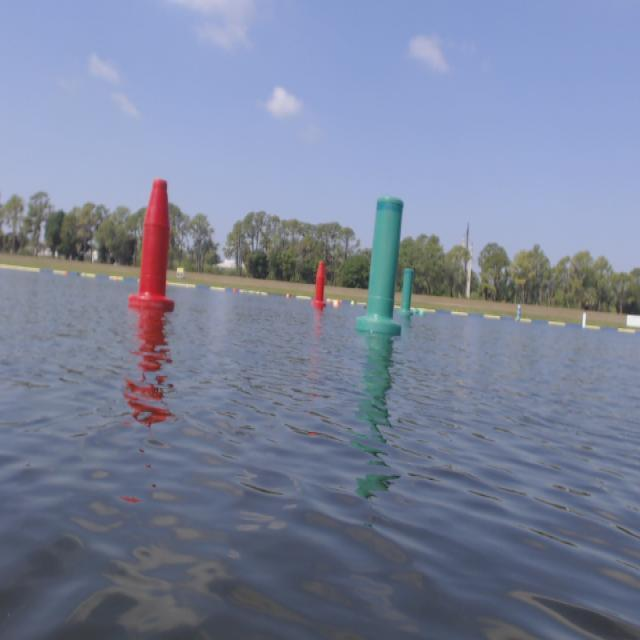Green_Buoy: (366, 188, 402, 348), (405, 248, 418, 324)
Red_Buoy: (145, 176, 177, 322), (316, 254, 332, 318)
